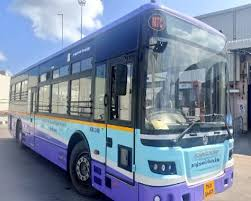bus: (7, 1, 235, 201)
